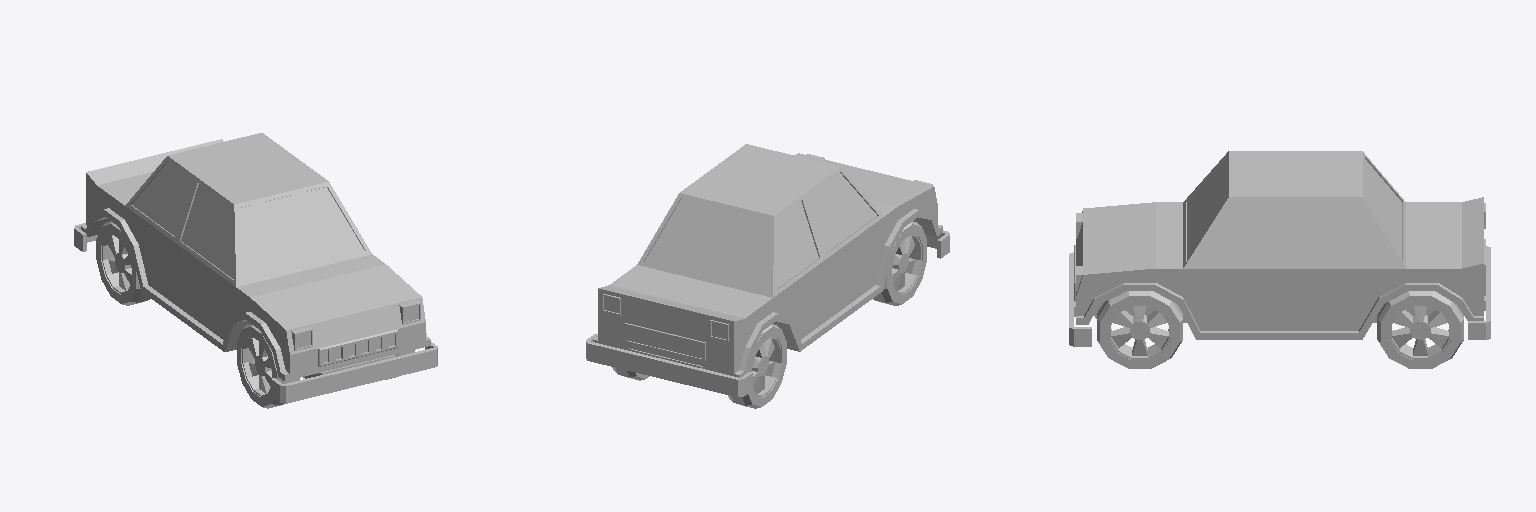
The model's file is car_01.obj.
3 views of the same model, side by side, from view 1: azimuth 30°, elevation 25°; view 2: azimuth 150°, elevation 25°; view 3: azimuth 270°, elevation 25° (orthographic).
Visible parts, largest first — view 1: car_Cube; view 2: car_Cube; view 3: car_Cube.
Boxes of the visible parts, x1=… form: car_Cube: x1=74, y1=133, x2=437, y2=408; car_Cube: x1=586, y1=144, x2=949, y2=408; car_Cube: x1=1069, y1=151, x2=1490, y2=368.
Size of the model in its own units: 1.02 by 1.01 by 2.36.